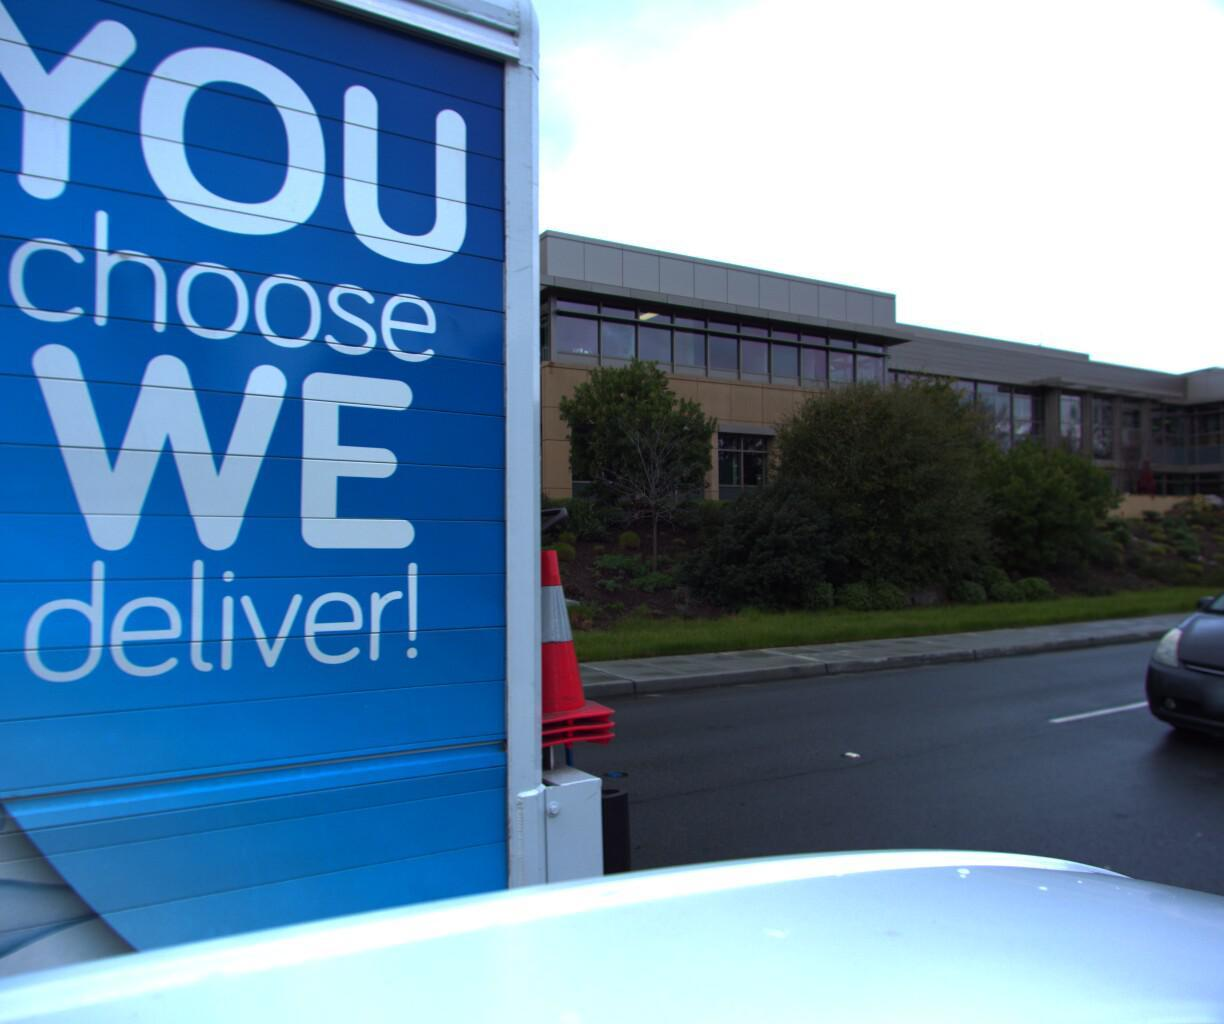car: (1101, 535, 1224, 790)
